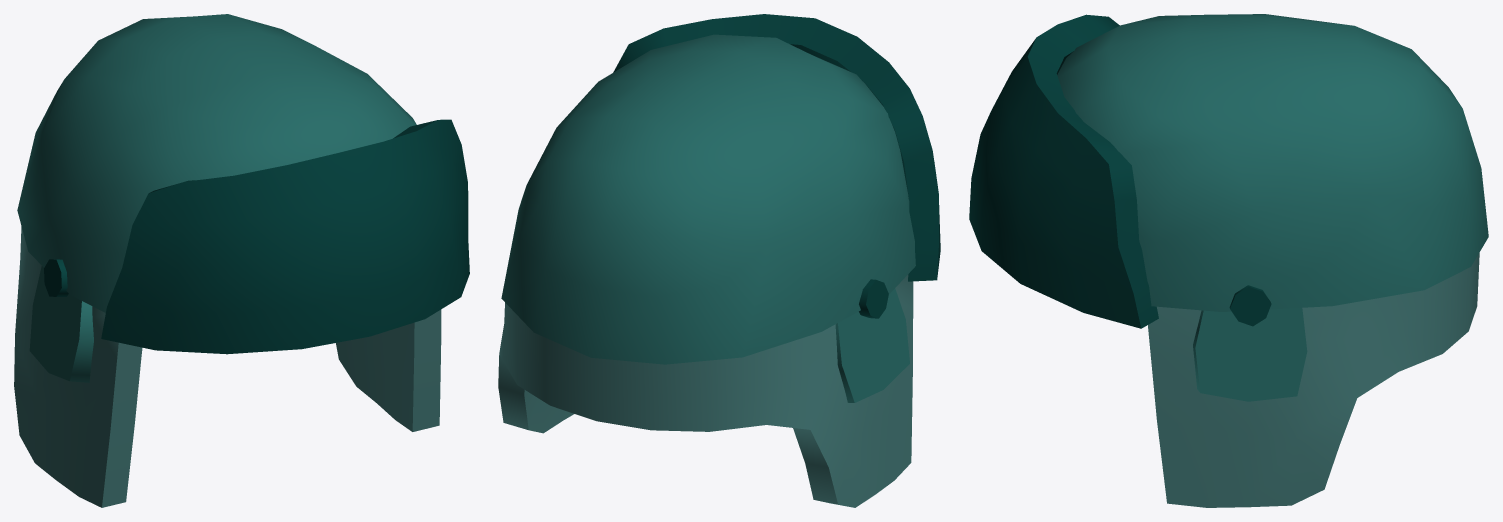
Rendered from 4滑雪帽2.fbx.
3 renders of one model, left to right at view 1: azimuth 30°, elevation 25°; view 2: azimuth 150°, elevation 25°; view 3: azimuth 270°, elevation 25°, orthographic. The views are drawn at different scales.
Parts seen in each view (by area): view 1: 4滑雪帽2; view 2: 4滑雪帽2; view 3: 4滑雪帽2.
Part boxes in pixels (bbox=[...]): 4滑雪帽2: bbox=[14, 14, 469, 507]; 4滑雪帽2: bbox=[498, 14, 940, 507]; 4滑雪帽2: bbox=[969, 14, 1488, 507].
Size of the model in its own units: 0.414 by 0.4226 by 0.5067.
